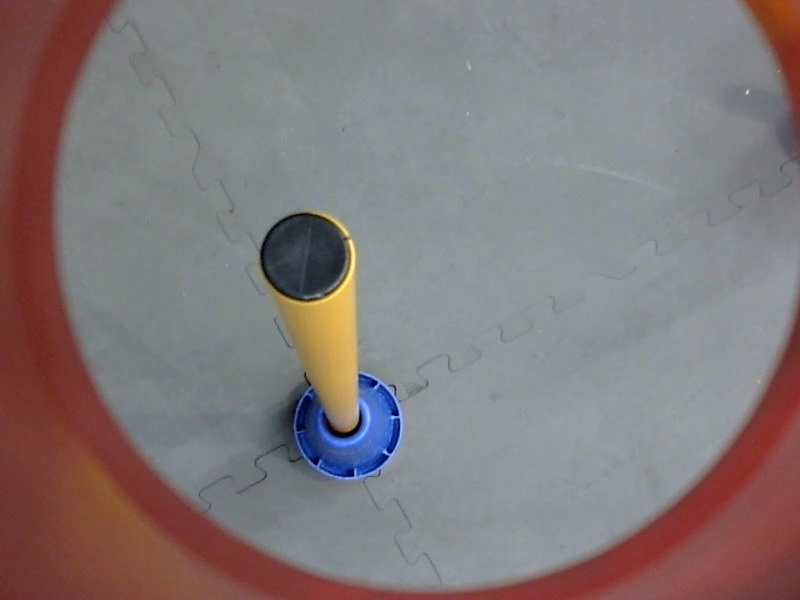tip: (251, 204, 362, 311)
